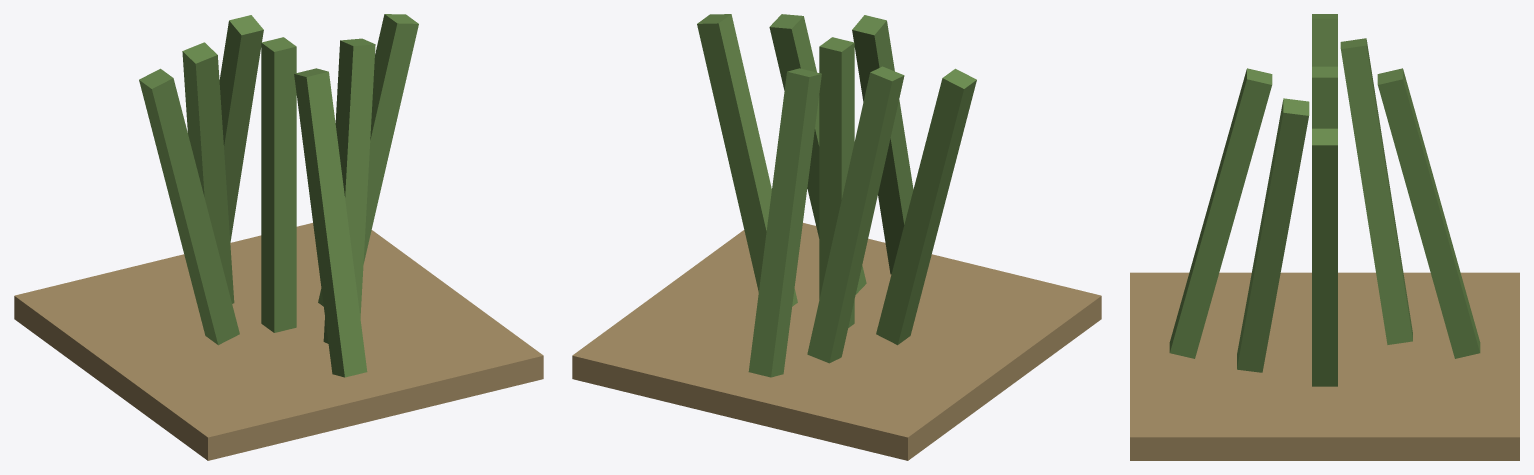
The picture shows the model from 3 angles, left to right: view 1: azimuth 30°, elevation 25°; view 2: azimuth 150°, elevation 25°; view 3: azimuth 270°, elevation 25°; orthographic projection.
Visible parts, largest first — view 1: grass-tuft-a@1.0.0; view 2: grass-tuft-a@1.0.0; view 3: grass-tuft-a@1.0.0.
Part boxes in pixels (x1,y1,x2,y2): grass-tuft-a@1.0.0: [14, 14, 543, 460]; grass-tuft-a@1.0.0: [572, 14, 1101, 460]; grass-tuft-a@1.0.0: [1130, 14, 1519, 460].
Bounding box in the file's own units: 0.75 × 0.6507 × 0.75.
